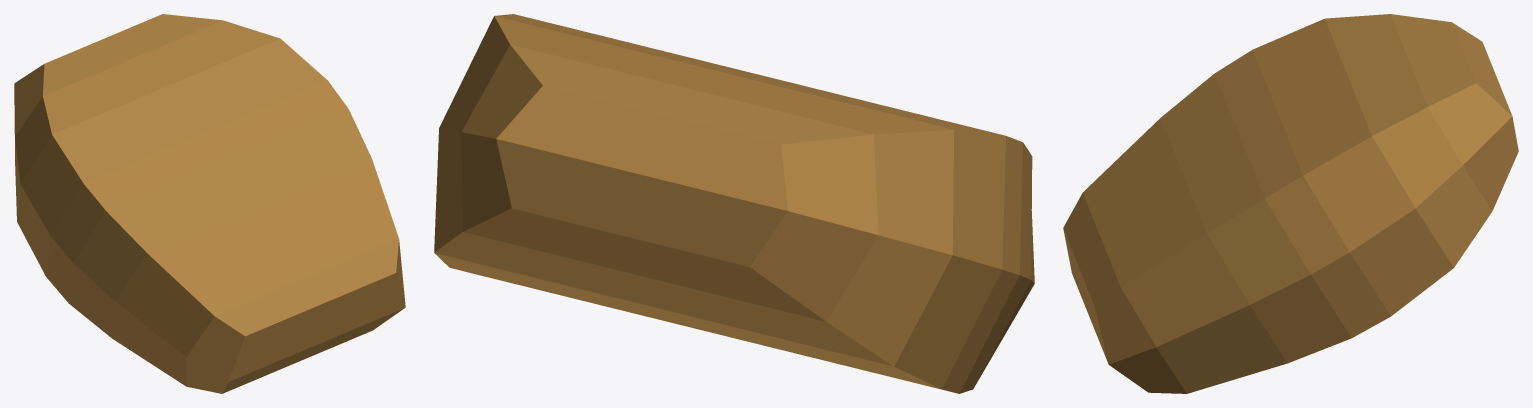
Rendered from potato.fbx.
3 views of the same model, side by side, from view 1: azimuth 30°, elevation 25°; view 2: azimuth 150°, elevation 25°; view 3: azimuth 270°, elevation 25° (orthographic). The views are drawn at different scales.
Parts seen in each view (by area): view 1: Potato; view 2: Potato; view 3: Potato.
Part boxes in pixels (bbox=[...]): Potato: bbox=[14, 14, 405, 393]; Potato: bbox=[434, 14, 1034, 393]; Potato: bbox=[1063, 14, 1518, 393].
Bounding box in the file's own units: 162 × 126 × 182.
